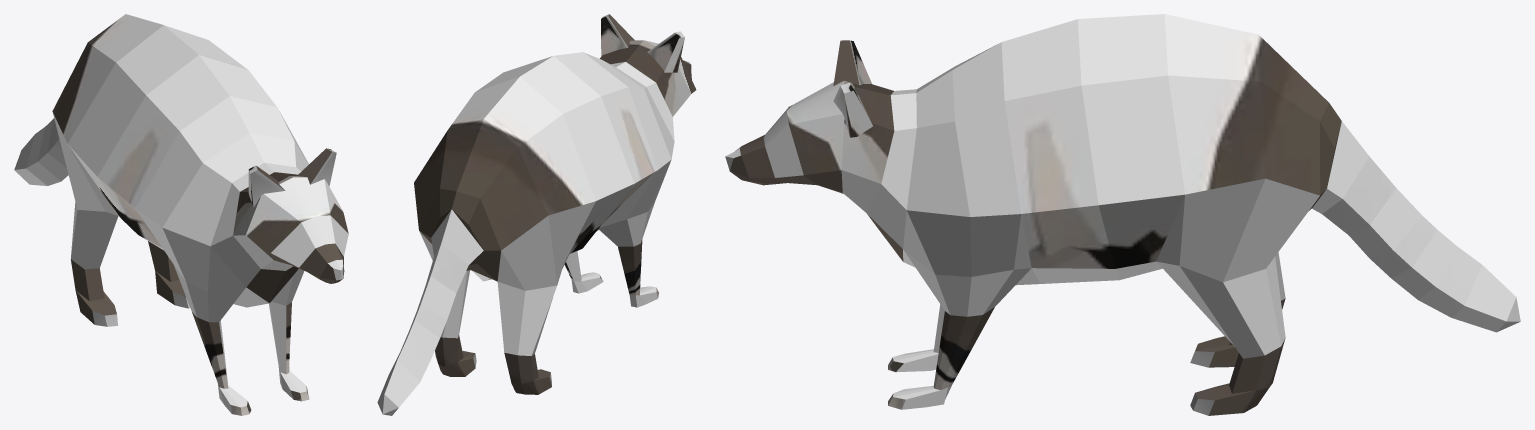
Rendered from 8LrB_8snYCX.glb.
3 views of the same model, side by side, from view 1: azimuth 30°, elevation 25°; view 2: azimuth 150°, elevation 25°; view 3: azimuth 270°, elevation 25° (orthographic). The views are drawn at different scales.
Visible parts, largest first — view 1: Geo_Raccoon; view 2: Geo_Raccoon; view 3: Geo_Raccoon.
Boxes of the visible parts, left/top/right/bottom form: Geo_Raccoon: left=14, top=14, right=348, bottom=415; Geo_Raccoon: left=377, top=14, right=696, bottom=415; Geo_Raccoon: left=725, top=14, right=1520, bottom=415.
Size of the model in its own units: 0.6444 by 1 by 1.93.
1 material, 1 textured.
